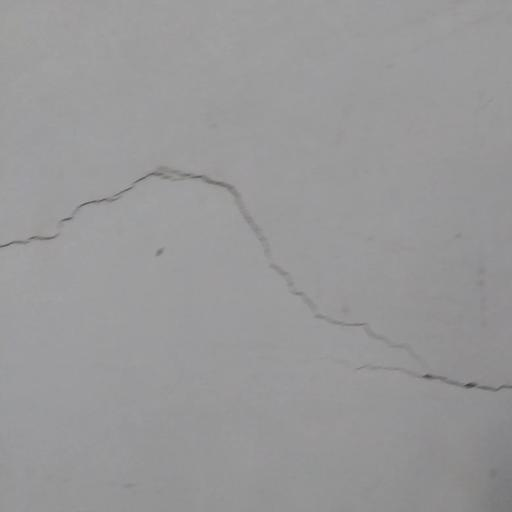minor_crack: (0, 155, 512, 405)
